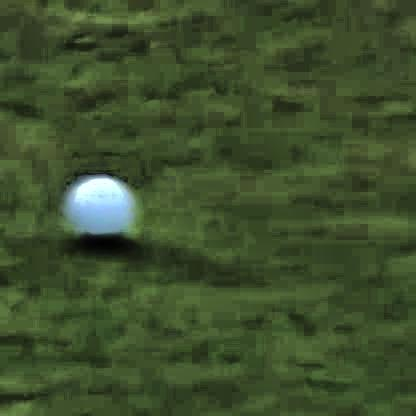golfball: (63, 173, 134, 243)
